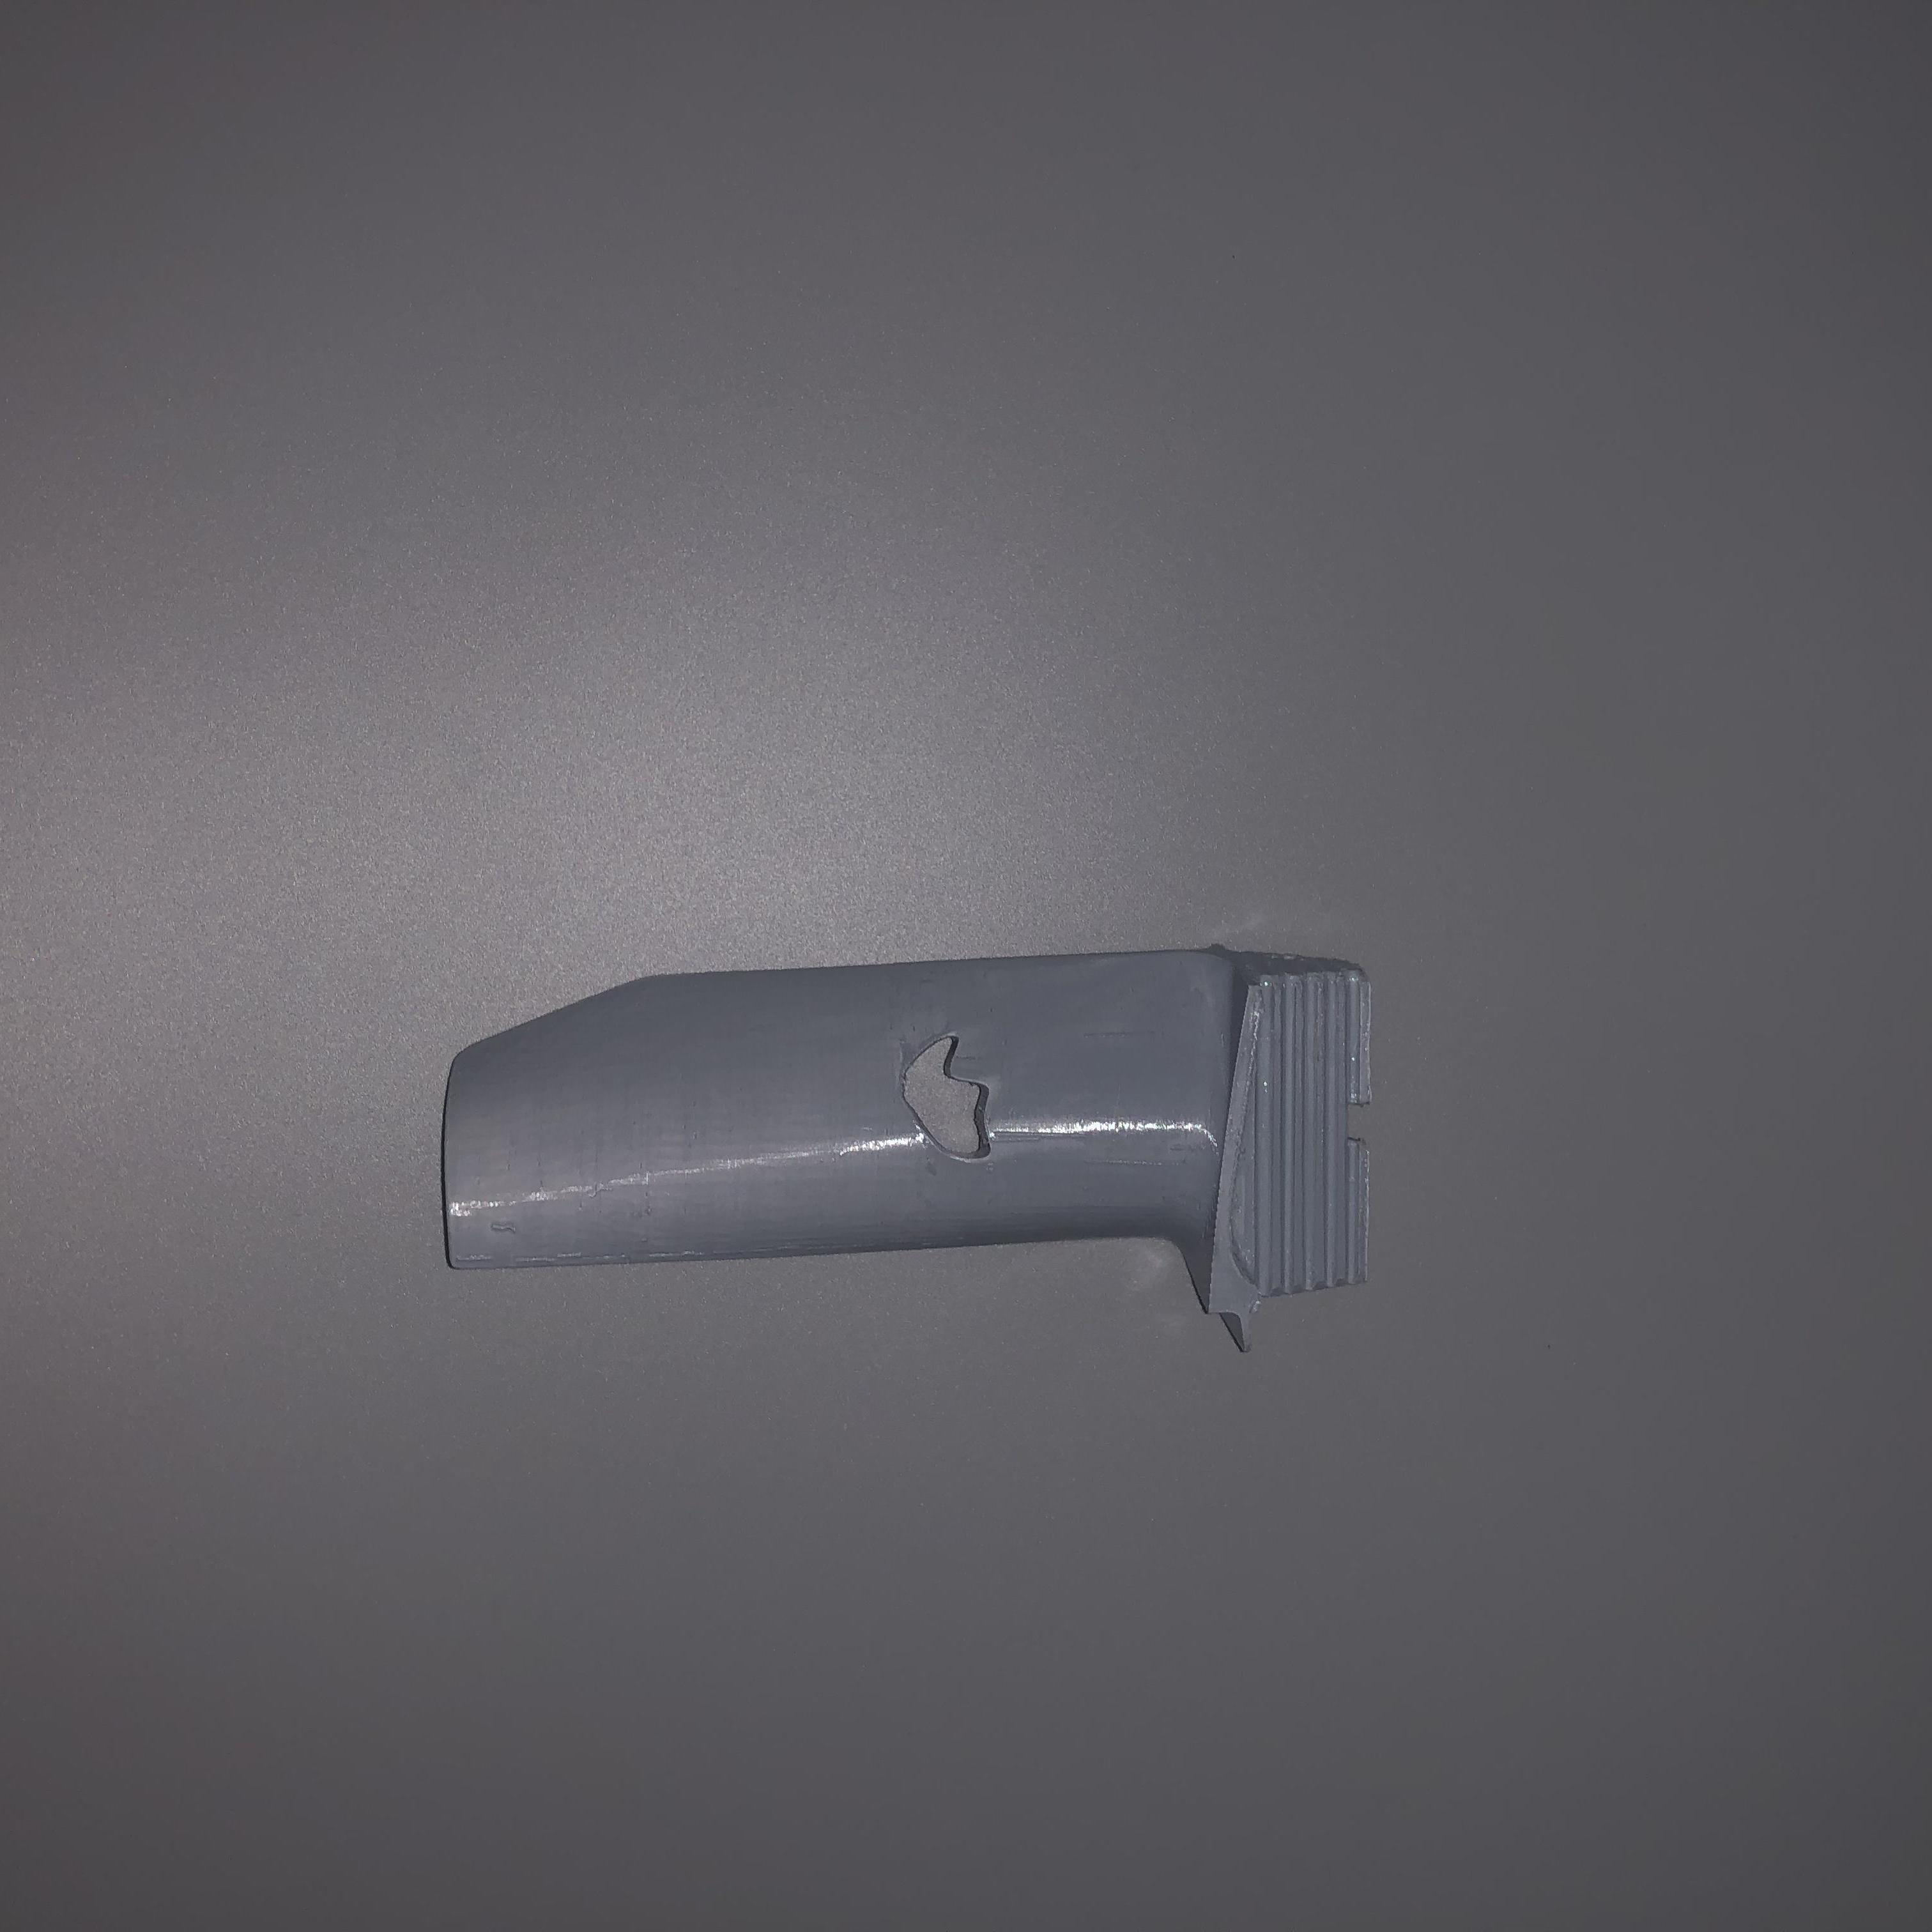breakdown: (911, 1028, 1014, 1164)
